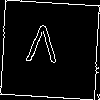V: (24, 25, 59, 72)
